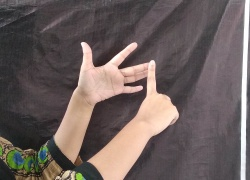u: (70, 39, 164, 110)
